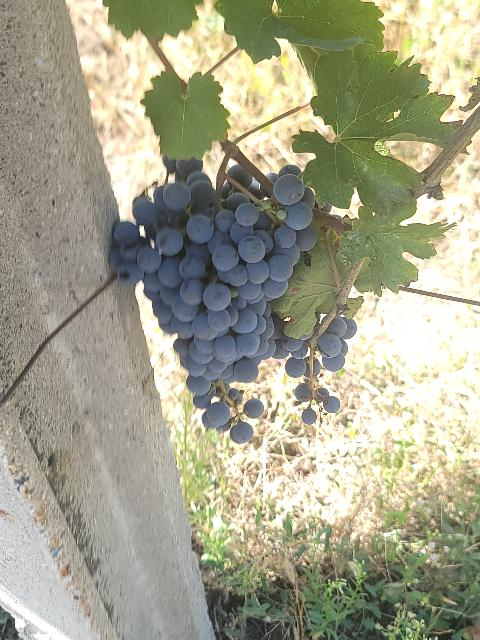grapes: (109, 158, 318, 442)
